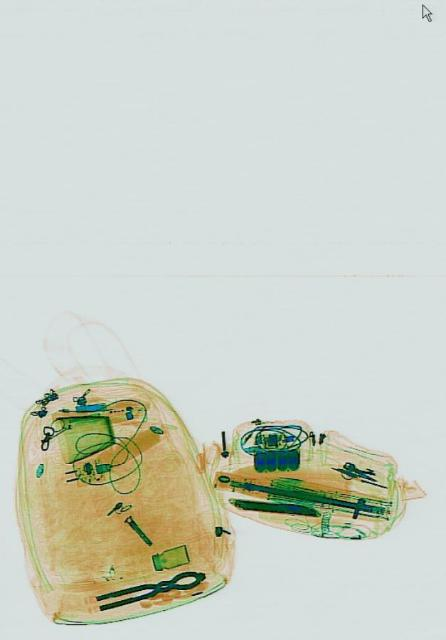Pliers: (93, 566, 206, 610)
